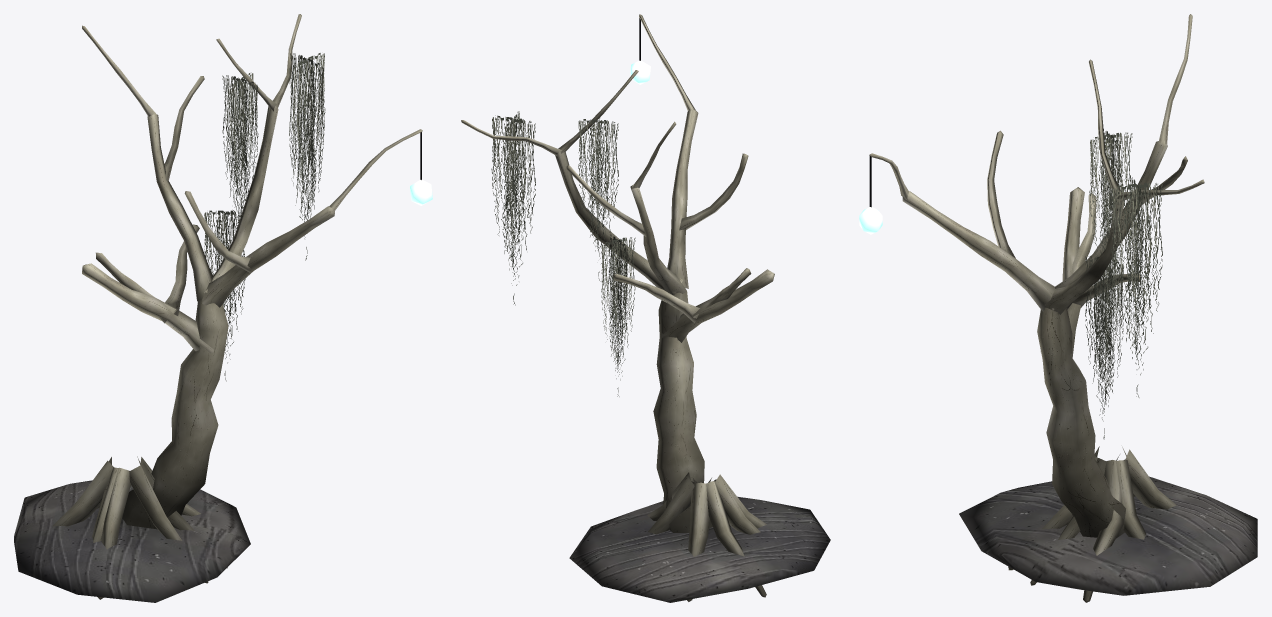
File: helheim_bone_tree_c_lod1.glb
3 views of the same model, side by side, from view 1: azimuth 30°, elevation 25°; view 2: azimuth 150°, elevation 25°; view 3: azimuth 270°, elevation 25° (orthographic). The views are drawn at different scales.
Parts seen in each view (by area): view 1: helheim_bone_tree_c_lod1; view 2: helheim_bone_tree_c_lod1; view 3: helheim_bone_tree_c_lod1.
Part boxes in pixels (<box>): helheim_bone_tree_c_lod1: <box>14,14,432,602</box>; helheim_bone_tree_c_lod1: <box>461,14,830,602</box>; helheim_bone_tree_c_lod1: <box>859,14,1257,602</box>.
Size of the model in its own units: 2.16 by 3.23 by 2.11.
5 materials, 3 textured.
